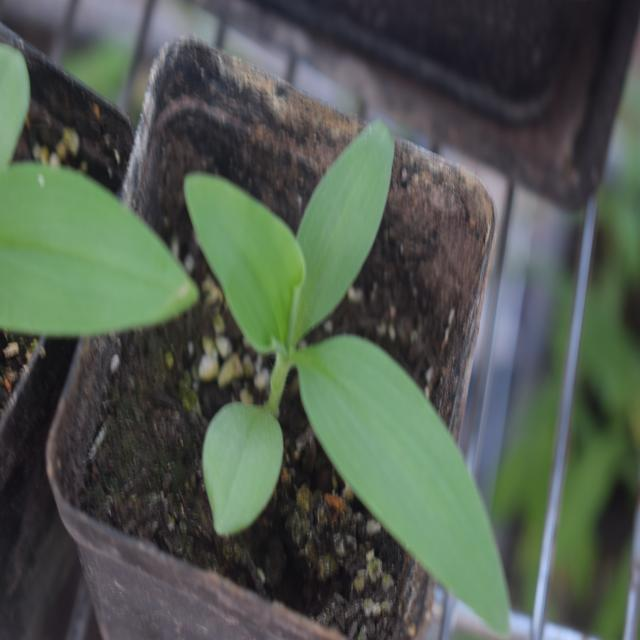Common Dayflower: (189, 124, 502, 626)
